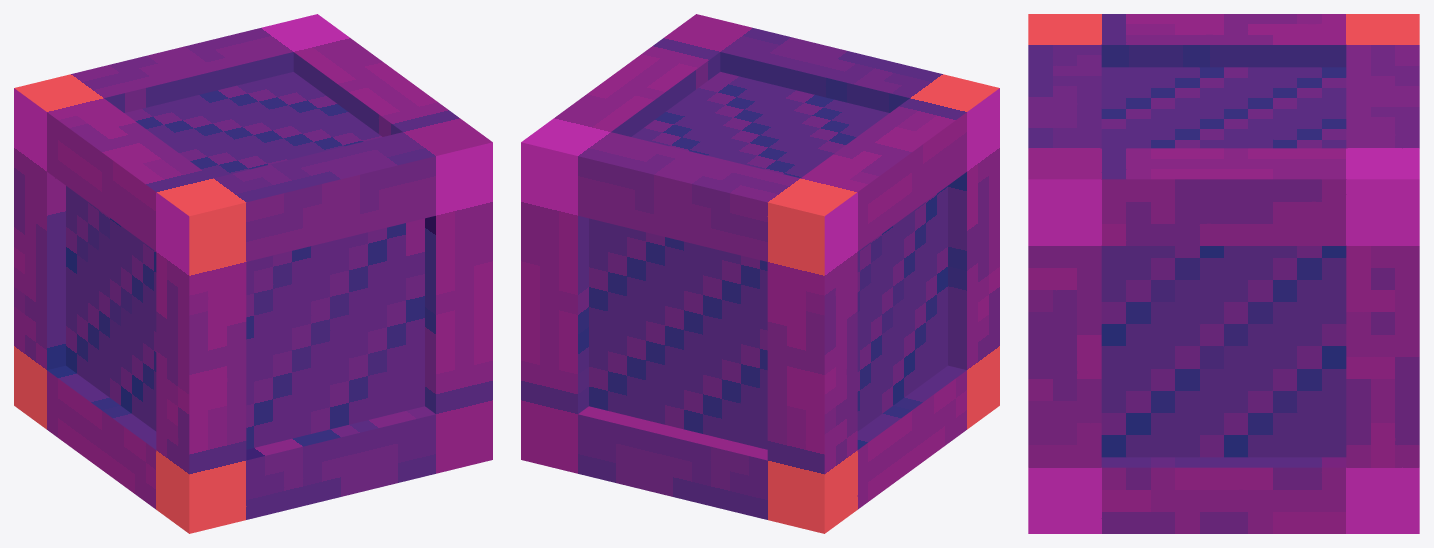
The model's file is asset_crate.glb.
The picture shows the model from 3 angles, left to right: view 1: azimuth 30°, elevation 25°; view 2: azimuth 150°, elevation 25°; view 3: azimuth 270°, elevation 25°; orthographic projection. The views are drawn at different scales.
Parts seen in each view (by area): view 1: Cube; view 2: Cube; view 3: Cube.
Part boxes in pixels (<box>): Cube: <box>14,14,492,533</box>; Cube: <box>521,14,999,533</box>; Cube: <box>1028,14,1419,533</box>.
Bounding box in the file's own units: 1 × 1 × 1.
1 material, 1 textured.
